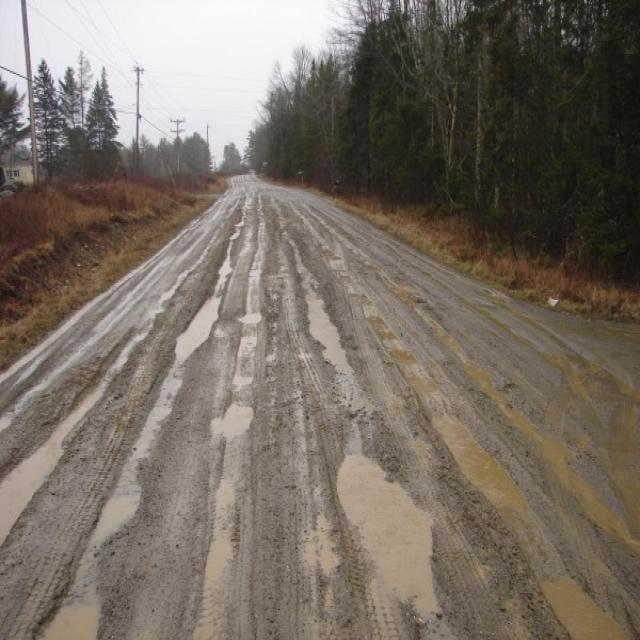Pothole: (330, 444, 450, 620), (294, 283, 364, 385), (89, 462, 150, 548), (174, 291, 222, 364), (203, 388, 259, 448)
